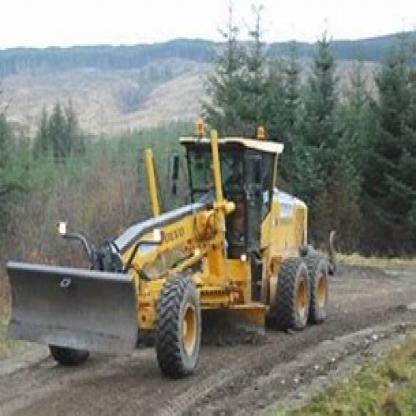bull_dozer/loader/grader: (3, 104, 397, 390)
